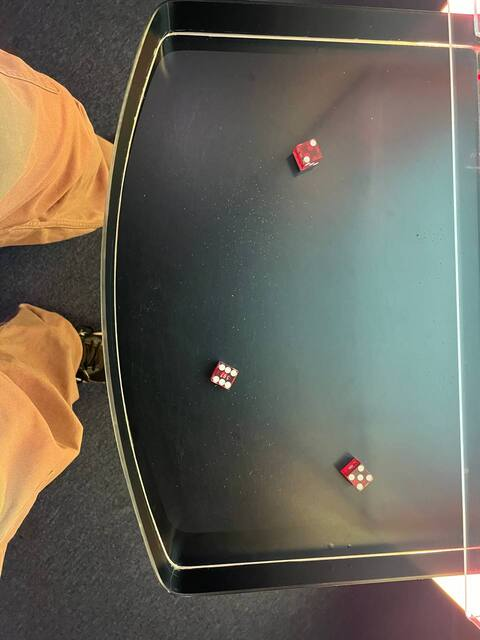five: (344, 460, 377, 493)
six: (207, 360, 242, 390)
two: (292, 135, 324, 167)
